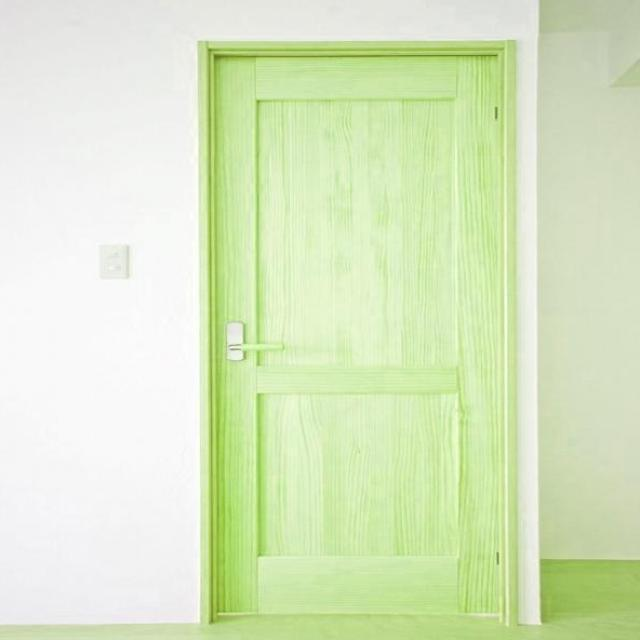door: (201, 40, 515, 624)
